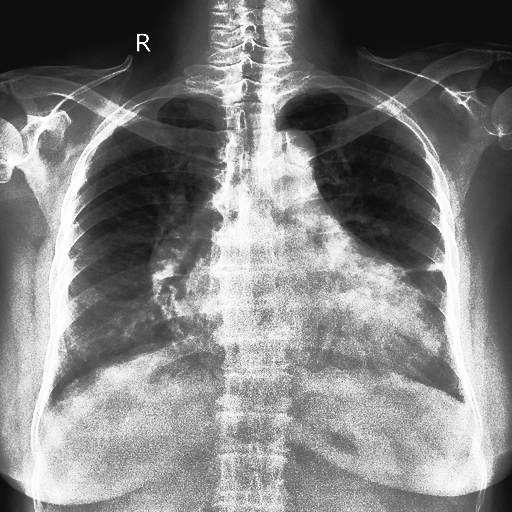Calcification: (284, 86, 332, 113)
Consolidation: (252, 127, 317, 182)
Nodule/Mass: (172, 272, 439, 371)
Pneumothorax: (402, 260, 445, 275)
